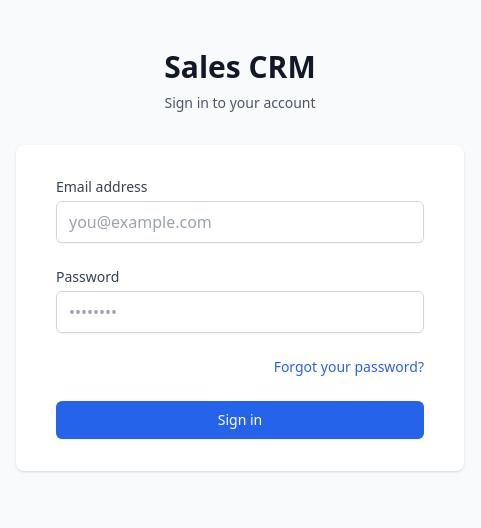
LoginPage › shows ACCOUNT_DEACTIVATED error message
Step 1. Type "a@b.com" into the field labelled "Email address" → (240, 222), box [56, 201, 424, 243]
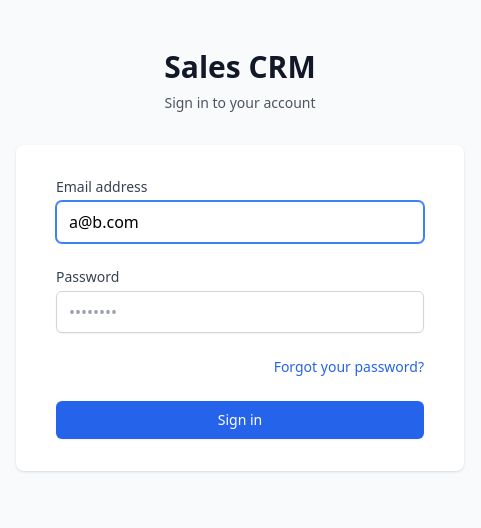
Step 2. Type "pass" into the password field labelled "Password" → (240, 312), box [56, 291, 424, 333]
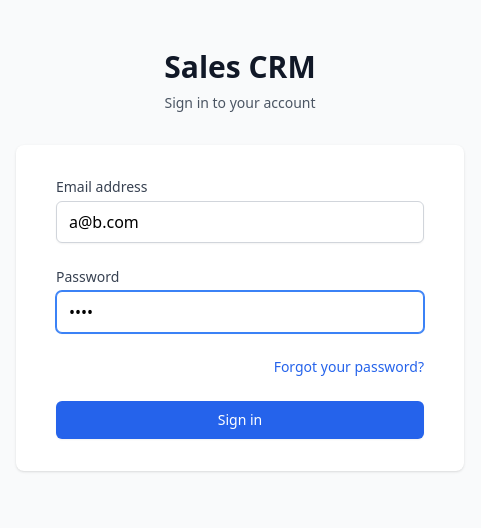
Step 3. Click the button "Sign in" → (240, 420), box [56, 401, 424, 439]
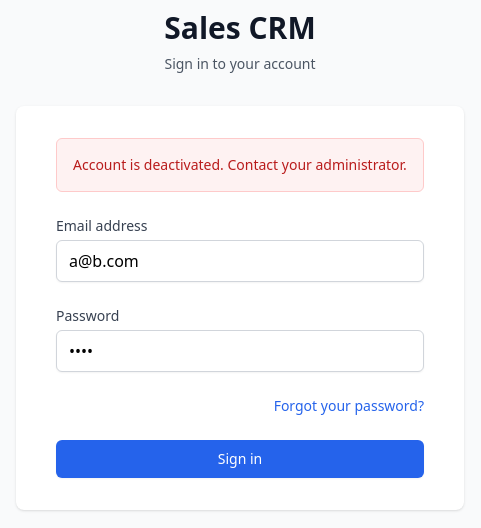
Check: the message shows "deactivated", box [73, 155, 407, 174]
